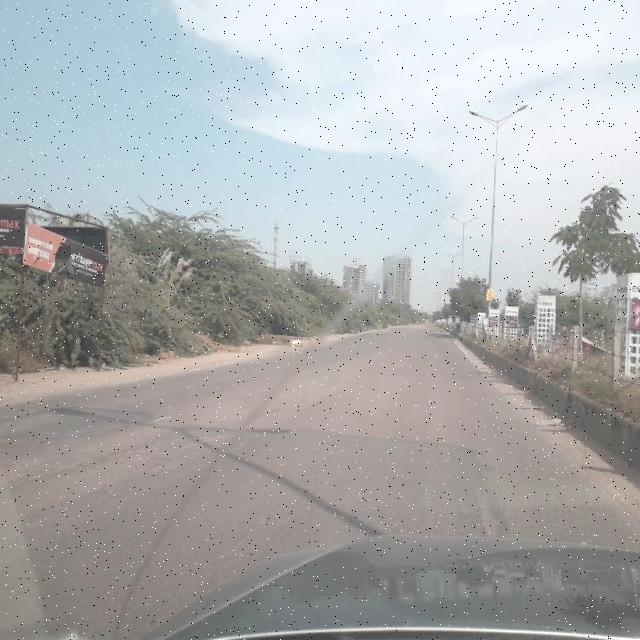D40: (14, 408, 204, 476)
